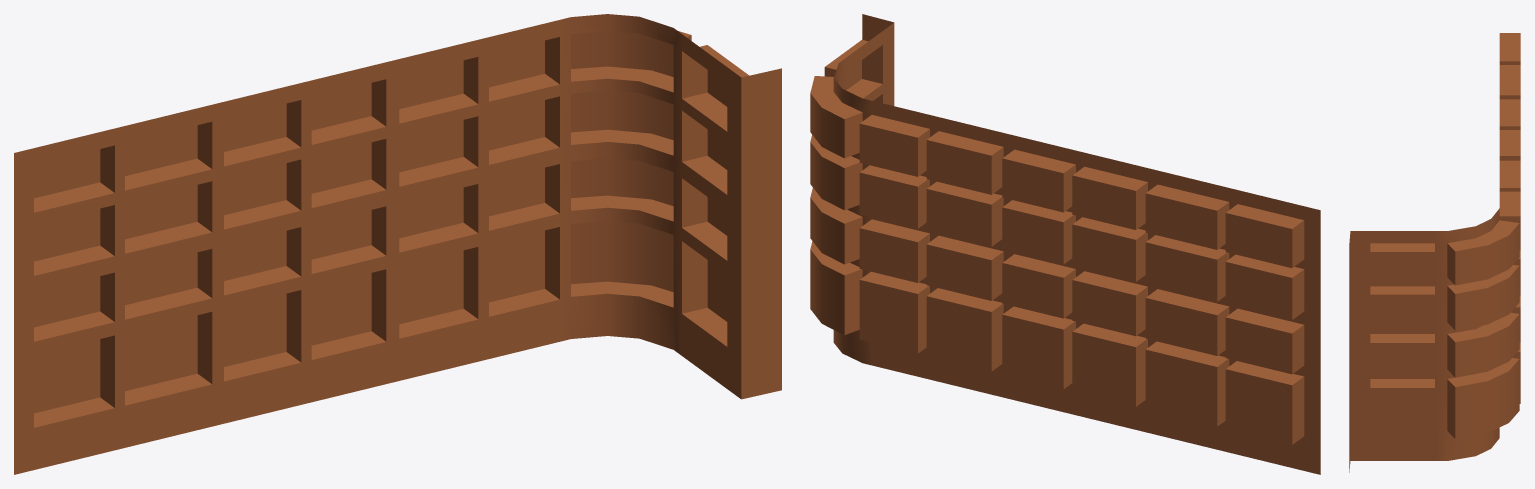
The model's file is Shelves.fbx.
3 views of the same model, side by side, from view 1: azimuth 30°, elevation 25°; view 2: azimuth 150°, elevation 25°; view 3: azimuth 270°, elevation 25° (orthographic). The views are drawn at different scales.
Parts seen in each view (by area): view 1: Shelves; view 2: Shelves; view 3: Shelves.
Part boxes in pixels (x1=…): Shelves: x1=14, y1=14, x2=781, y2=474; Shelves: x1=810, y1=14, x2=1320, y2=474; Shelves: x1=1349, y1=33, x2=1520, y2=472.
Bounding box in the file's own units: 497 × 231 × 156.
